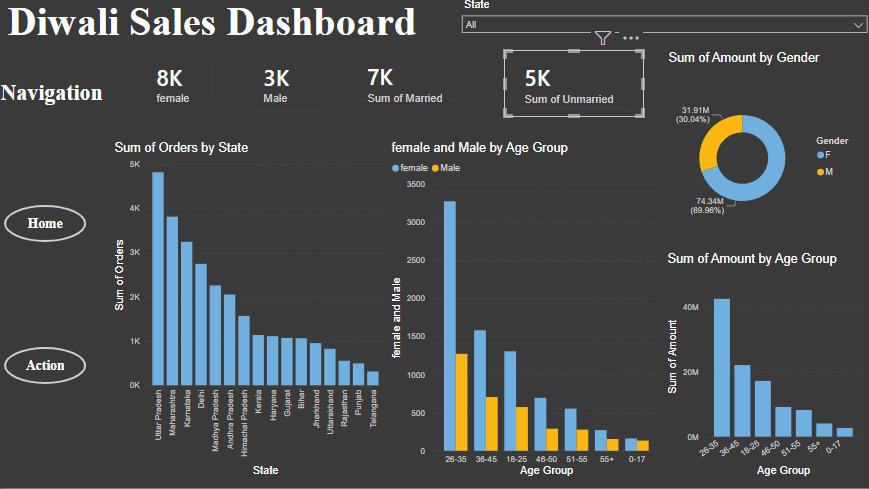

The dashboard page shown, as its layout file describes it:
{"tool":"powerbi","page":{"name":"Home","canvas":[1280,720],"ordinal":0},"visuals":[{"type":"textbox","box":[10,0,630,80],"z":0},{"type":"slicer","fields":{"Values":["diwalisale (1).State"]},"box":[667.9,0,611.5,65.4],"z":1000},{"type":"cardVisual","fields":{"Data":["diwalisale (1).female"]},"box":[202.6,79.5,133.3,98.7],"z":2000},{"type":"cardVisual","fields":{"Data":["diwalisale (1).Male"]},"box":[359,76.9,135.9,101.3],"z":3000},{"type":"cardVisual","fields":{"Data":["Sum(diwalisale (1).Married)"]},"box":[510.3,79.5,182.1,97.4],"z":4000},{"type":"cardVisual","fields":{"Data":["Sum(diwalisale (1).Unmarried)"]},"box":[712.8,76.9,203.8,98.7],"z":5000},{"type":"actionButton","box":[10,306,120,54],"z":6000},{"type":"actionButton","box":[10,514,120,54],"z":7000},{"type":"textbox","box":[0,120,186,54],"z":8000},{"type":"columnChart","fields":{"Y":["Sum(diwalisale (1).Orders)"],"Category":["diwalisale (1).State"]},"box":[166,212,404,496],"z":9000},{"type":"donutChart","fields":{"Category":["diwalisale (1).Gender"],"Y":["Sum(diwalisale (1).Amount)"]},"box":[974.3,80,292.9,294.3],"z":10000},{"type":"clusteredColumnChart","fields":{"Y":["diwalisale (1).female","diwalisale (1).Male"],"Category":["diwalisale (1).Age Group"]},"box":[570,212,404,496],"z":11000},{"type":"clusteredColumnChart","fields":{"Y":["Sum(diwalisale (1).Amount)"],"Category":["diwalisale (1).Age Group"]},"box":[974,374,293,334],"z":12000}]}

Visuals, with their boxes in screenshot pixels (x1, y1, x2, y2), scaled from the page's 1280x720 canvas onto the 869x489 screenshot:
textbox: bbox(7, 0, 434, 54)
slicer - diwalisale (1).State: bbox(453, 0, 868, 44)
cardVisual - diwalisale (1).female: bbox(138, 54, 228, 121)
cardVisual - diwalisale (1).Male: bbox(244, 52, 336, 121)
cardVisual - Sum(diwalisale (1).Married): bbox(346, 54, 470, 120)
cardVisual - Sum(diwalisale (1).Unmarried): bbox(484, 52, 622, 119)
actionButton: bbox(7, 208, 88, 244)
actionButton: bbox(7, 349, 88, 386)
textbox: bbox(0, 82, 126, 118)
columnChart - Sum(diwalisale (1).Orders) x diwalisale (1).State: bbox(113, 144, 387, 481)
donutChart - diwalisale (1).Gender x Sum(diwalisale (1).Amount): bbox(661, 54, 860, 254)
clusteredColumnChart - diwalisale (1).female x diwalisale (1).Male: bbox(387, 144, 661, 481)
clusteredColumnChart - Sum(diwalisale (1).Amount) x diwalisale (1).Age Group: bbox(661, 254, 860, 481)
